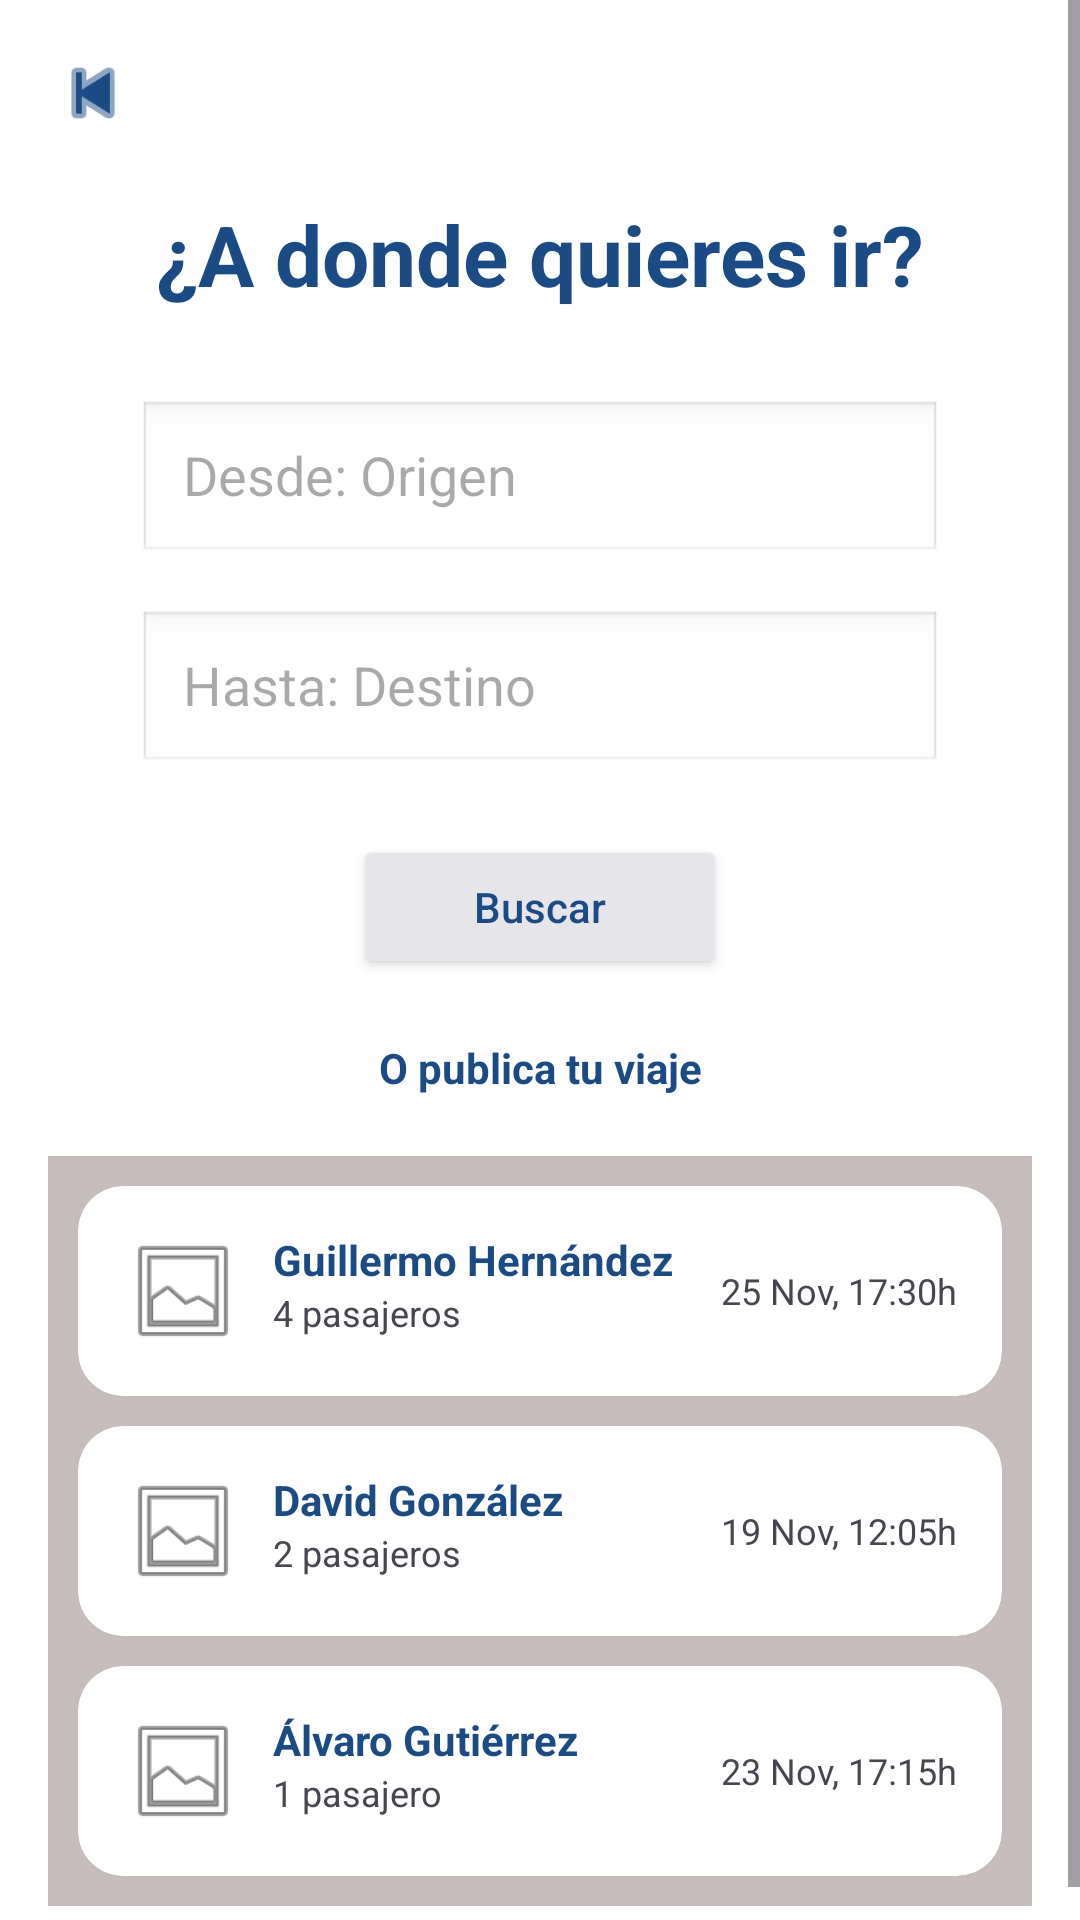

Locate icon controls on the screen. Image size 1080 × 1920, boxes as box=[x1, y1, x2, y2].
gallery: box=[138, 1246, 228, 1336], box=[138, 1486, 228, 1576], box=[138, 1726, 228, 1816]
previous: box=[71, 67, 115, 119]
